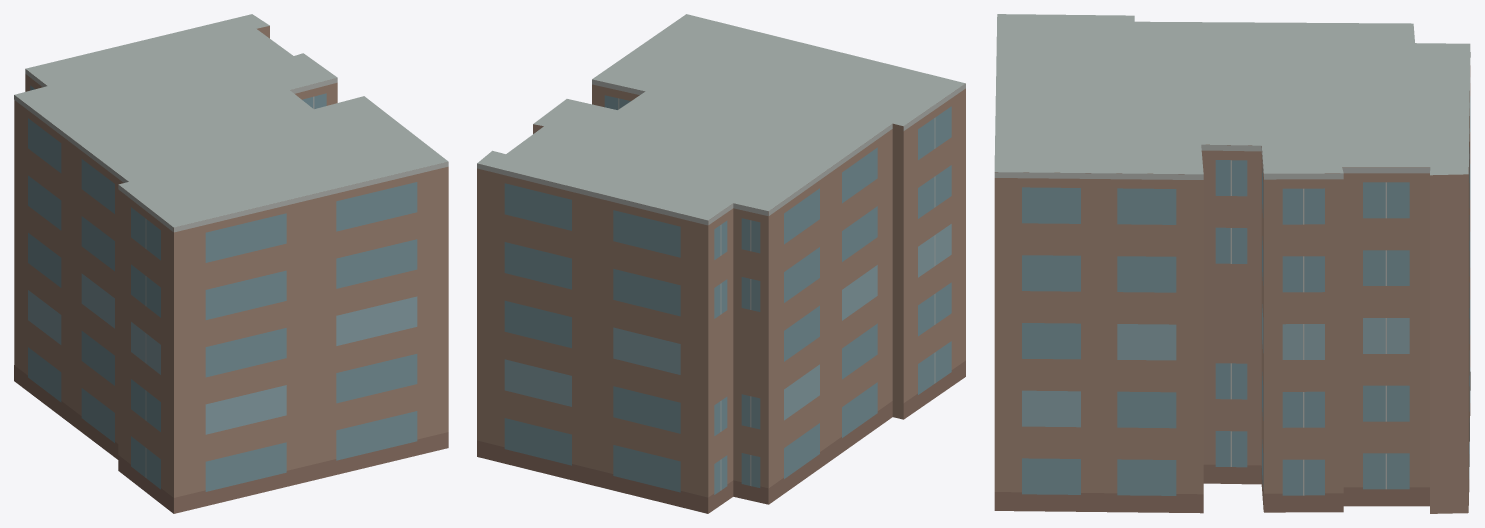
File: survey-upis-32631547.glb
The picture shows the model from 3 angles, left to right: view 1: azimuth 30°, elevation 25°; view 2: azimuth 150°, elevation 25°; view 3: azimuth 270°, elevation 25°; orthographic projection. The views are drawn at different scales.
Visible parts, largest first — view 1: survey-upis-32631547.tmp; view 2: survey-upis-32631547.tmp; view 3: survey-upis-32631547.tmp.
Part boxes in pixels (x1,y1,x2,y2): survey-upis-32631547.tmp: (14,14,448,513); survey-upis-32631547.tmp: (477,14,965,513); survey-upis-32631547.tmp: (994,14,1470,513).
Size of the model in its own units: 14.49 by 14.2 by 18.09.
